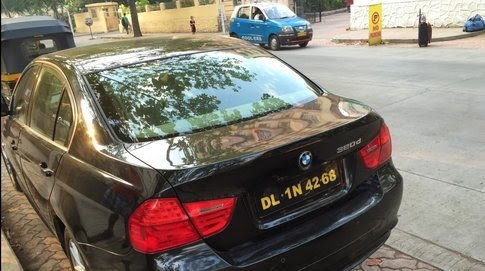number_plate: (220, 155, 379, 233)
